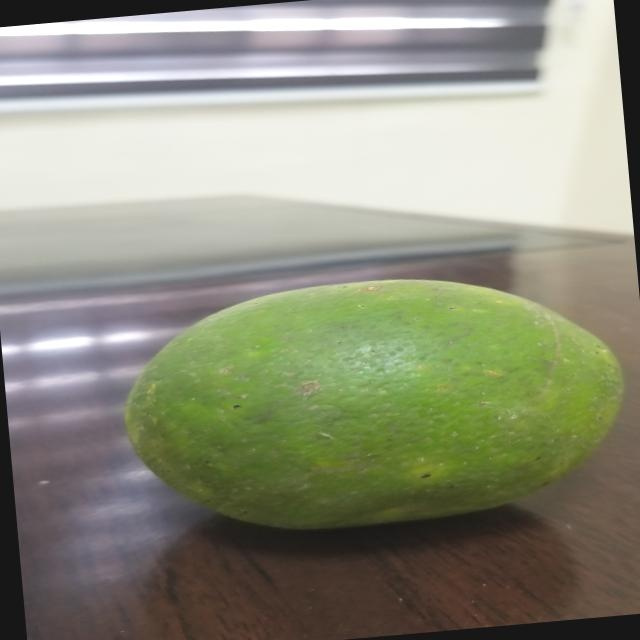agrume: (98, 250, 640, 558)
